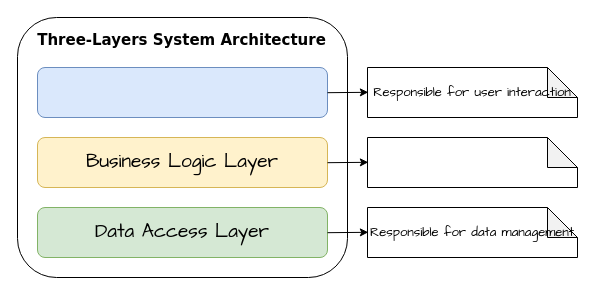
The diagram is 595 pixels wide and 295 high, and some of its shapes have lost their labels. Here are the shapes that lost their labels. From the top down, the centre of each, then its label:
At (182,92): "Presentation Layer".
At (472,162): "Responsible for the business logic processing".
